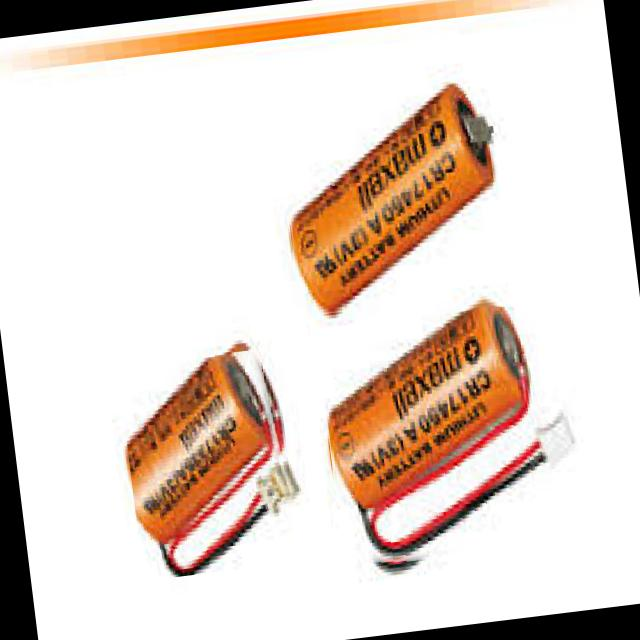Hazard: (327, 307, 571, 561), (290, 80, 493, 312), (126, 352, 289, 575)
